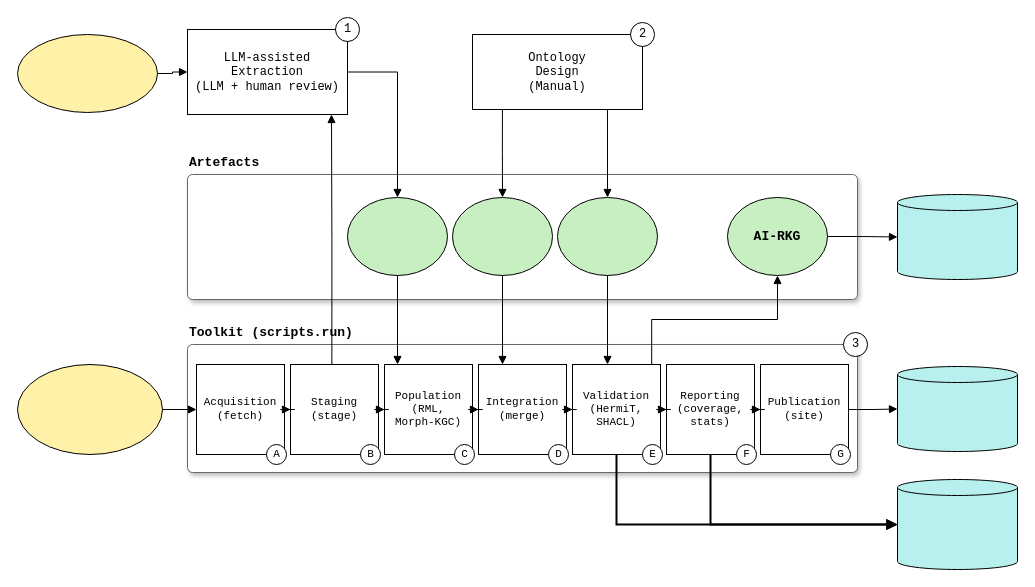
Some shapes in this 1035 by 587 pixel diagram are drawn without their labels. The shapes that lost their labels are listed below. From the top down, each one's centre as x and y in pixels, then its label:
At (87,73): "AI incidents (AIID + AVID)".
At (397,236): "accepted motifs & mitigation links".
At (502,236): "AI-RKG ontology + contexts".
At (607,236): "SHACL shapes".
At (957,237): "AI-RKG Turtle / N-Triples".
At (89,409): "Risk & mitigation catalogues (AI Atlas Nexus)".
At (957,409): "AI-RKG Static site (HTML+Turtle)".
At (957,524): "AI-RKG Reports (validation, coverage)".
